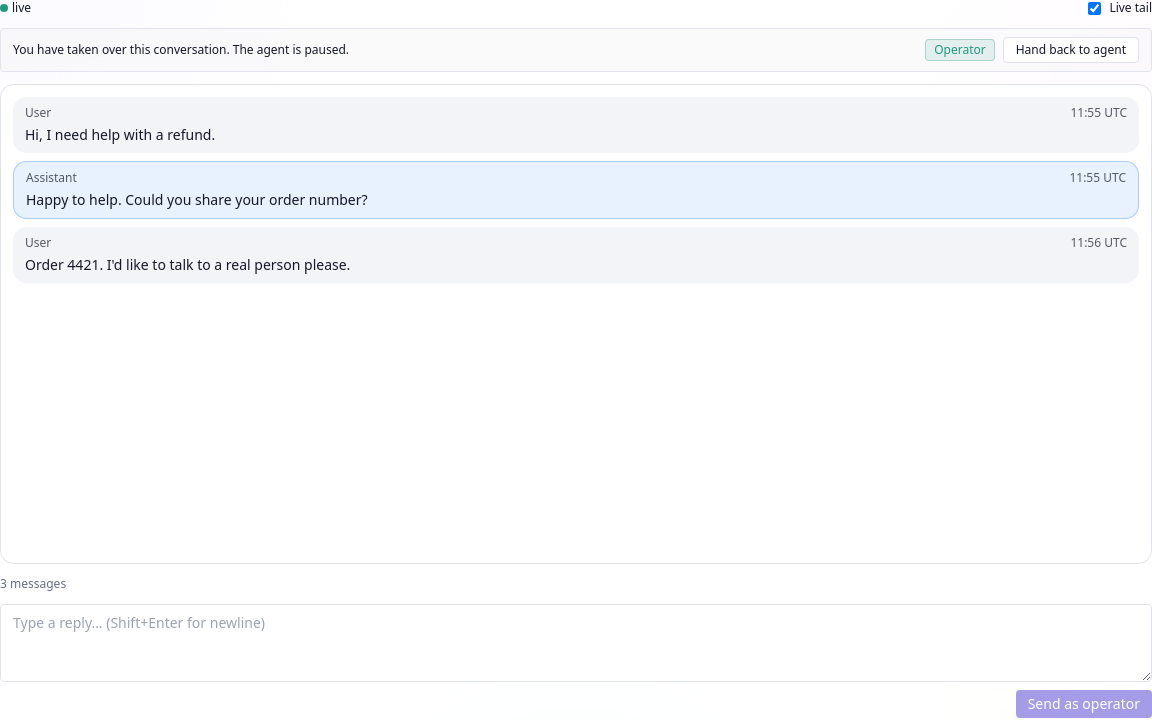
Scenario: ConversationViewer handback › shows error toast on handback failure and keeps operator ownership
Click the button with test id "conversation-handback".
click(1071, 50)  # box [1003,37,1139,63]
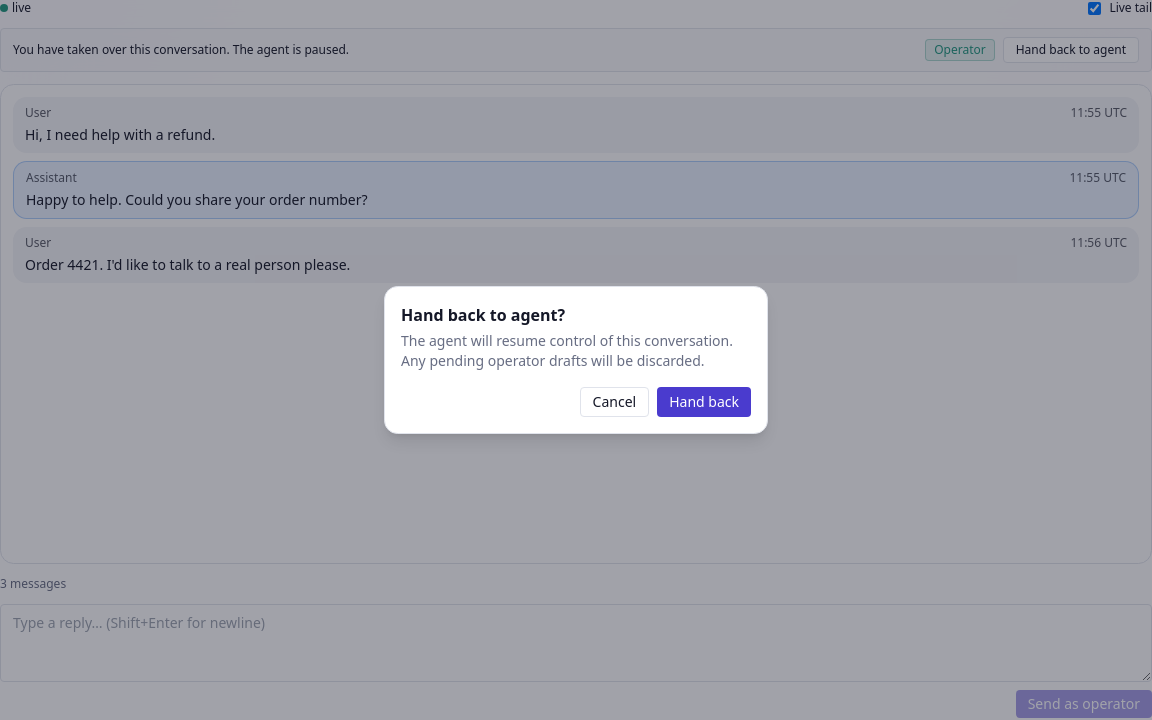
Click the button with test id "conversation-handback-confirm".
click(704, 402)  # box [657,387,751,417]
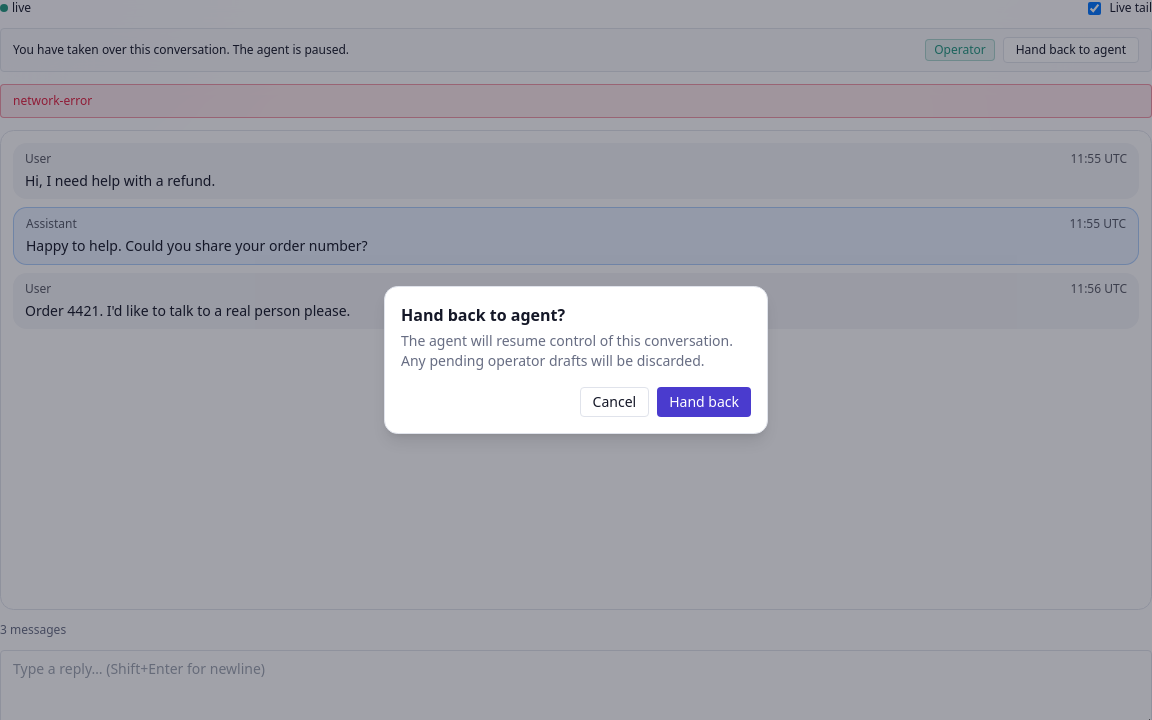
Expected: the text "Operator" is shown, [925,39,995,61]
Now the message with test id "conversation-error" reads "network-error", box [13,92,92,109]
